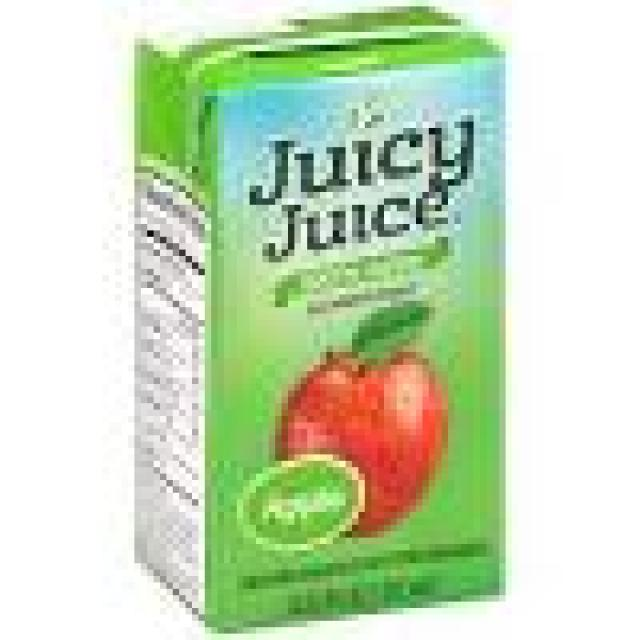non_white_jug: (160, 83, 480, 640)
